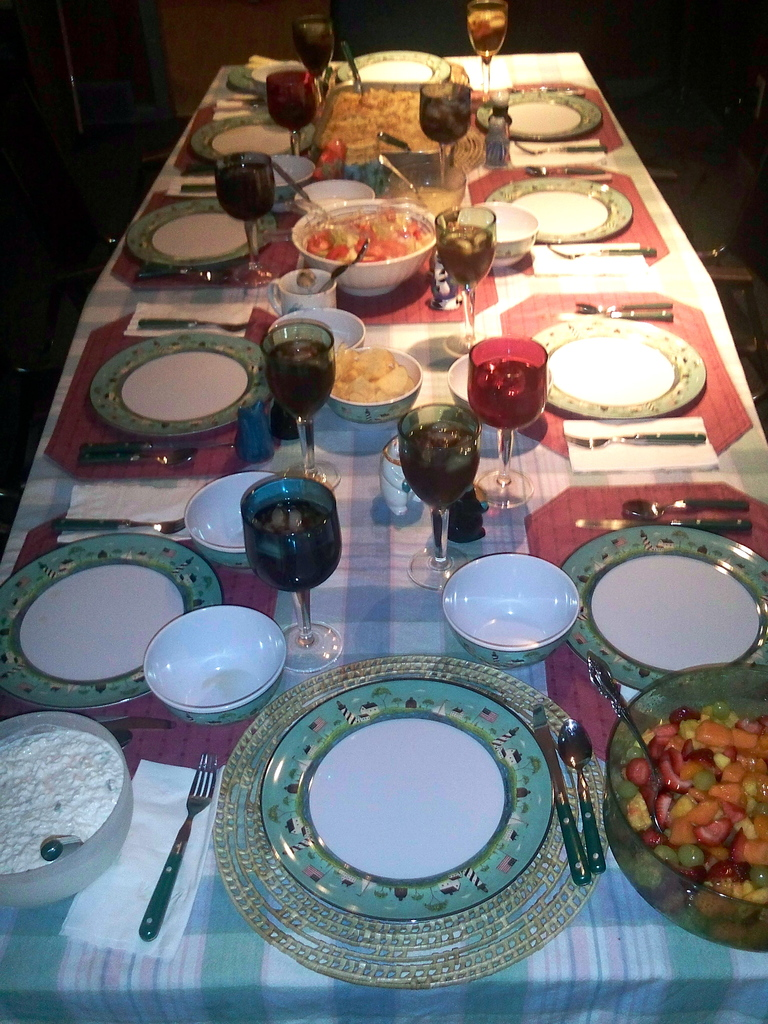plate: (529, 315, 713, 427), (484, 173, 638, 252), (479, 87, 601, 144), (328, 46, 458, 93)
